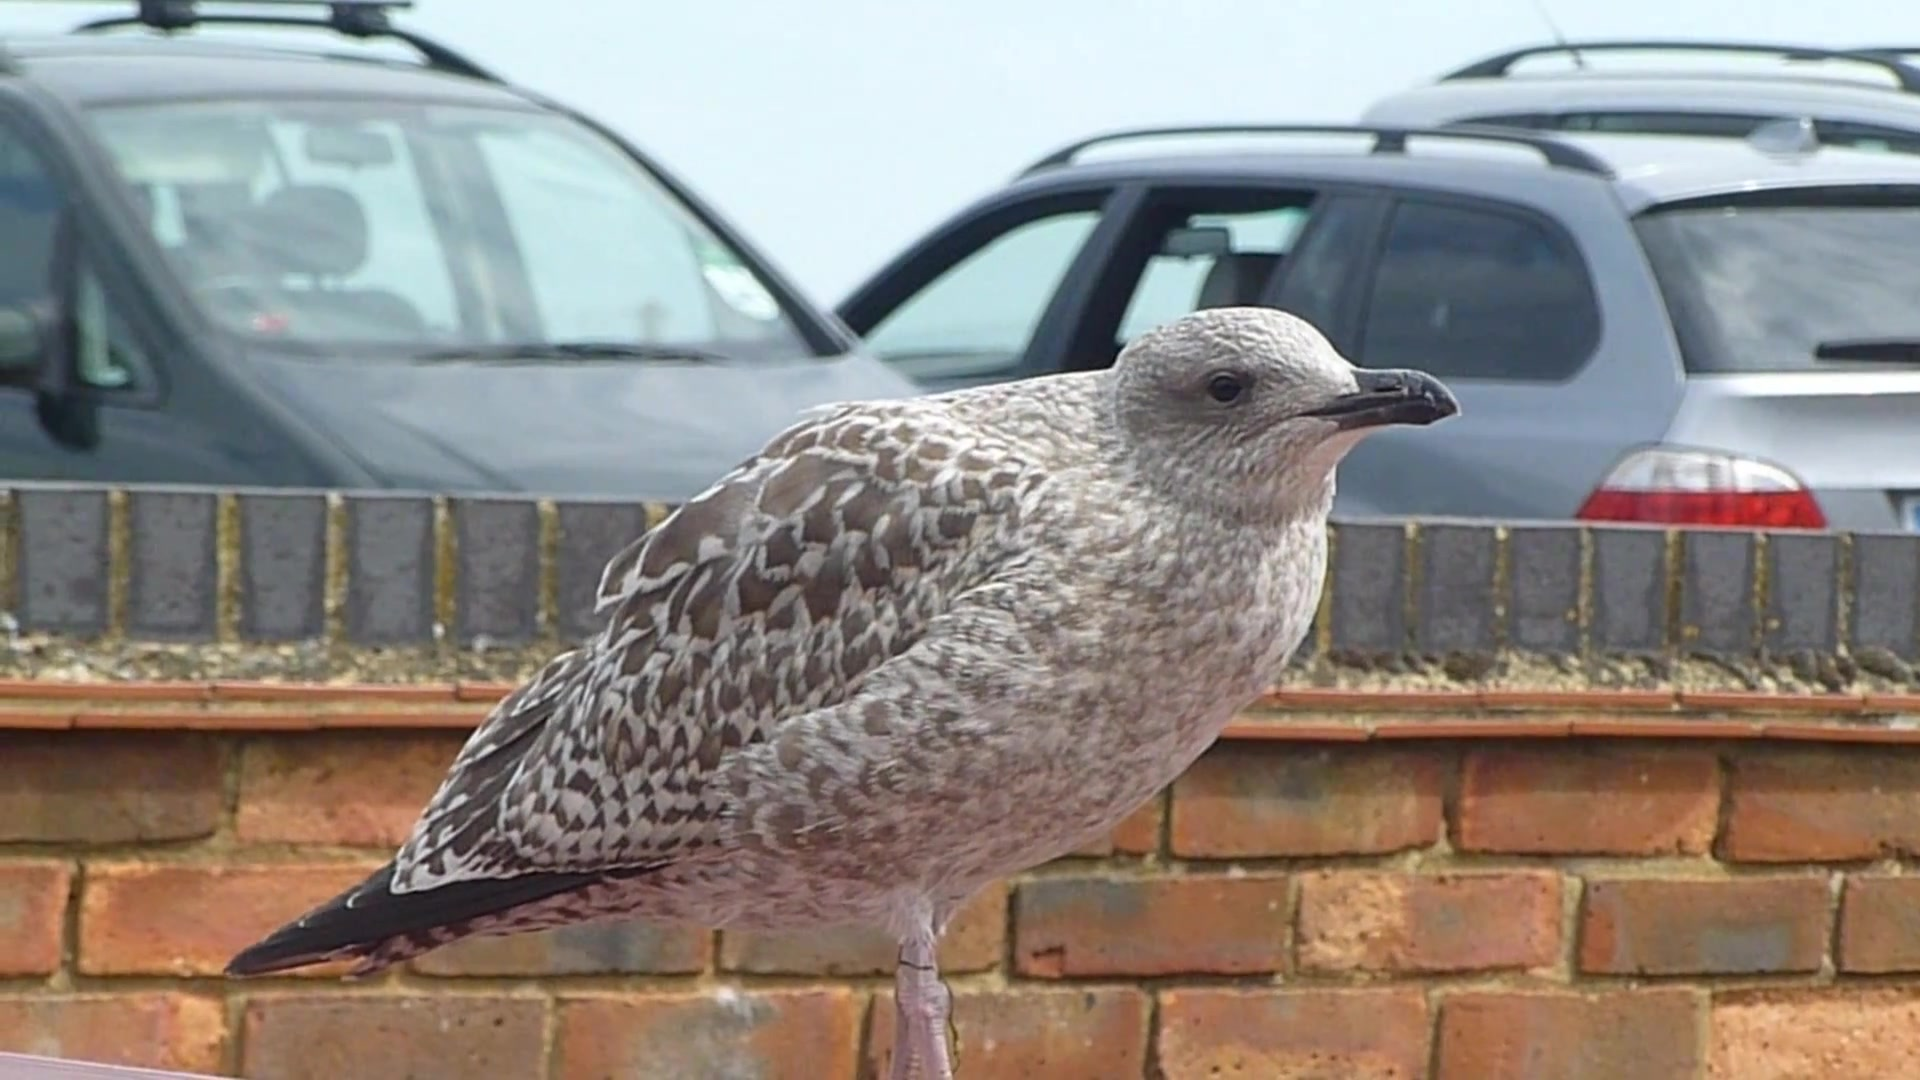bird: (225, 309, 1452, 1080)
